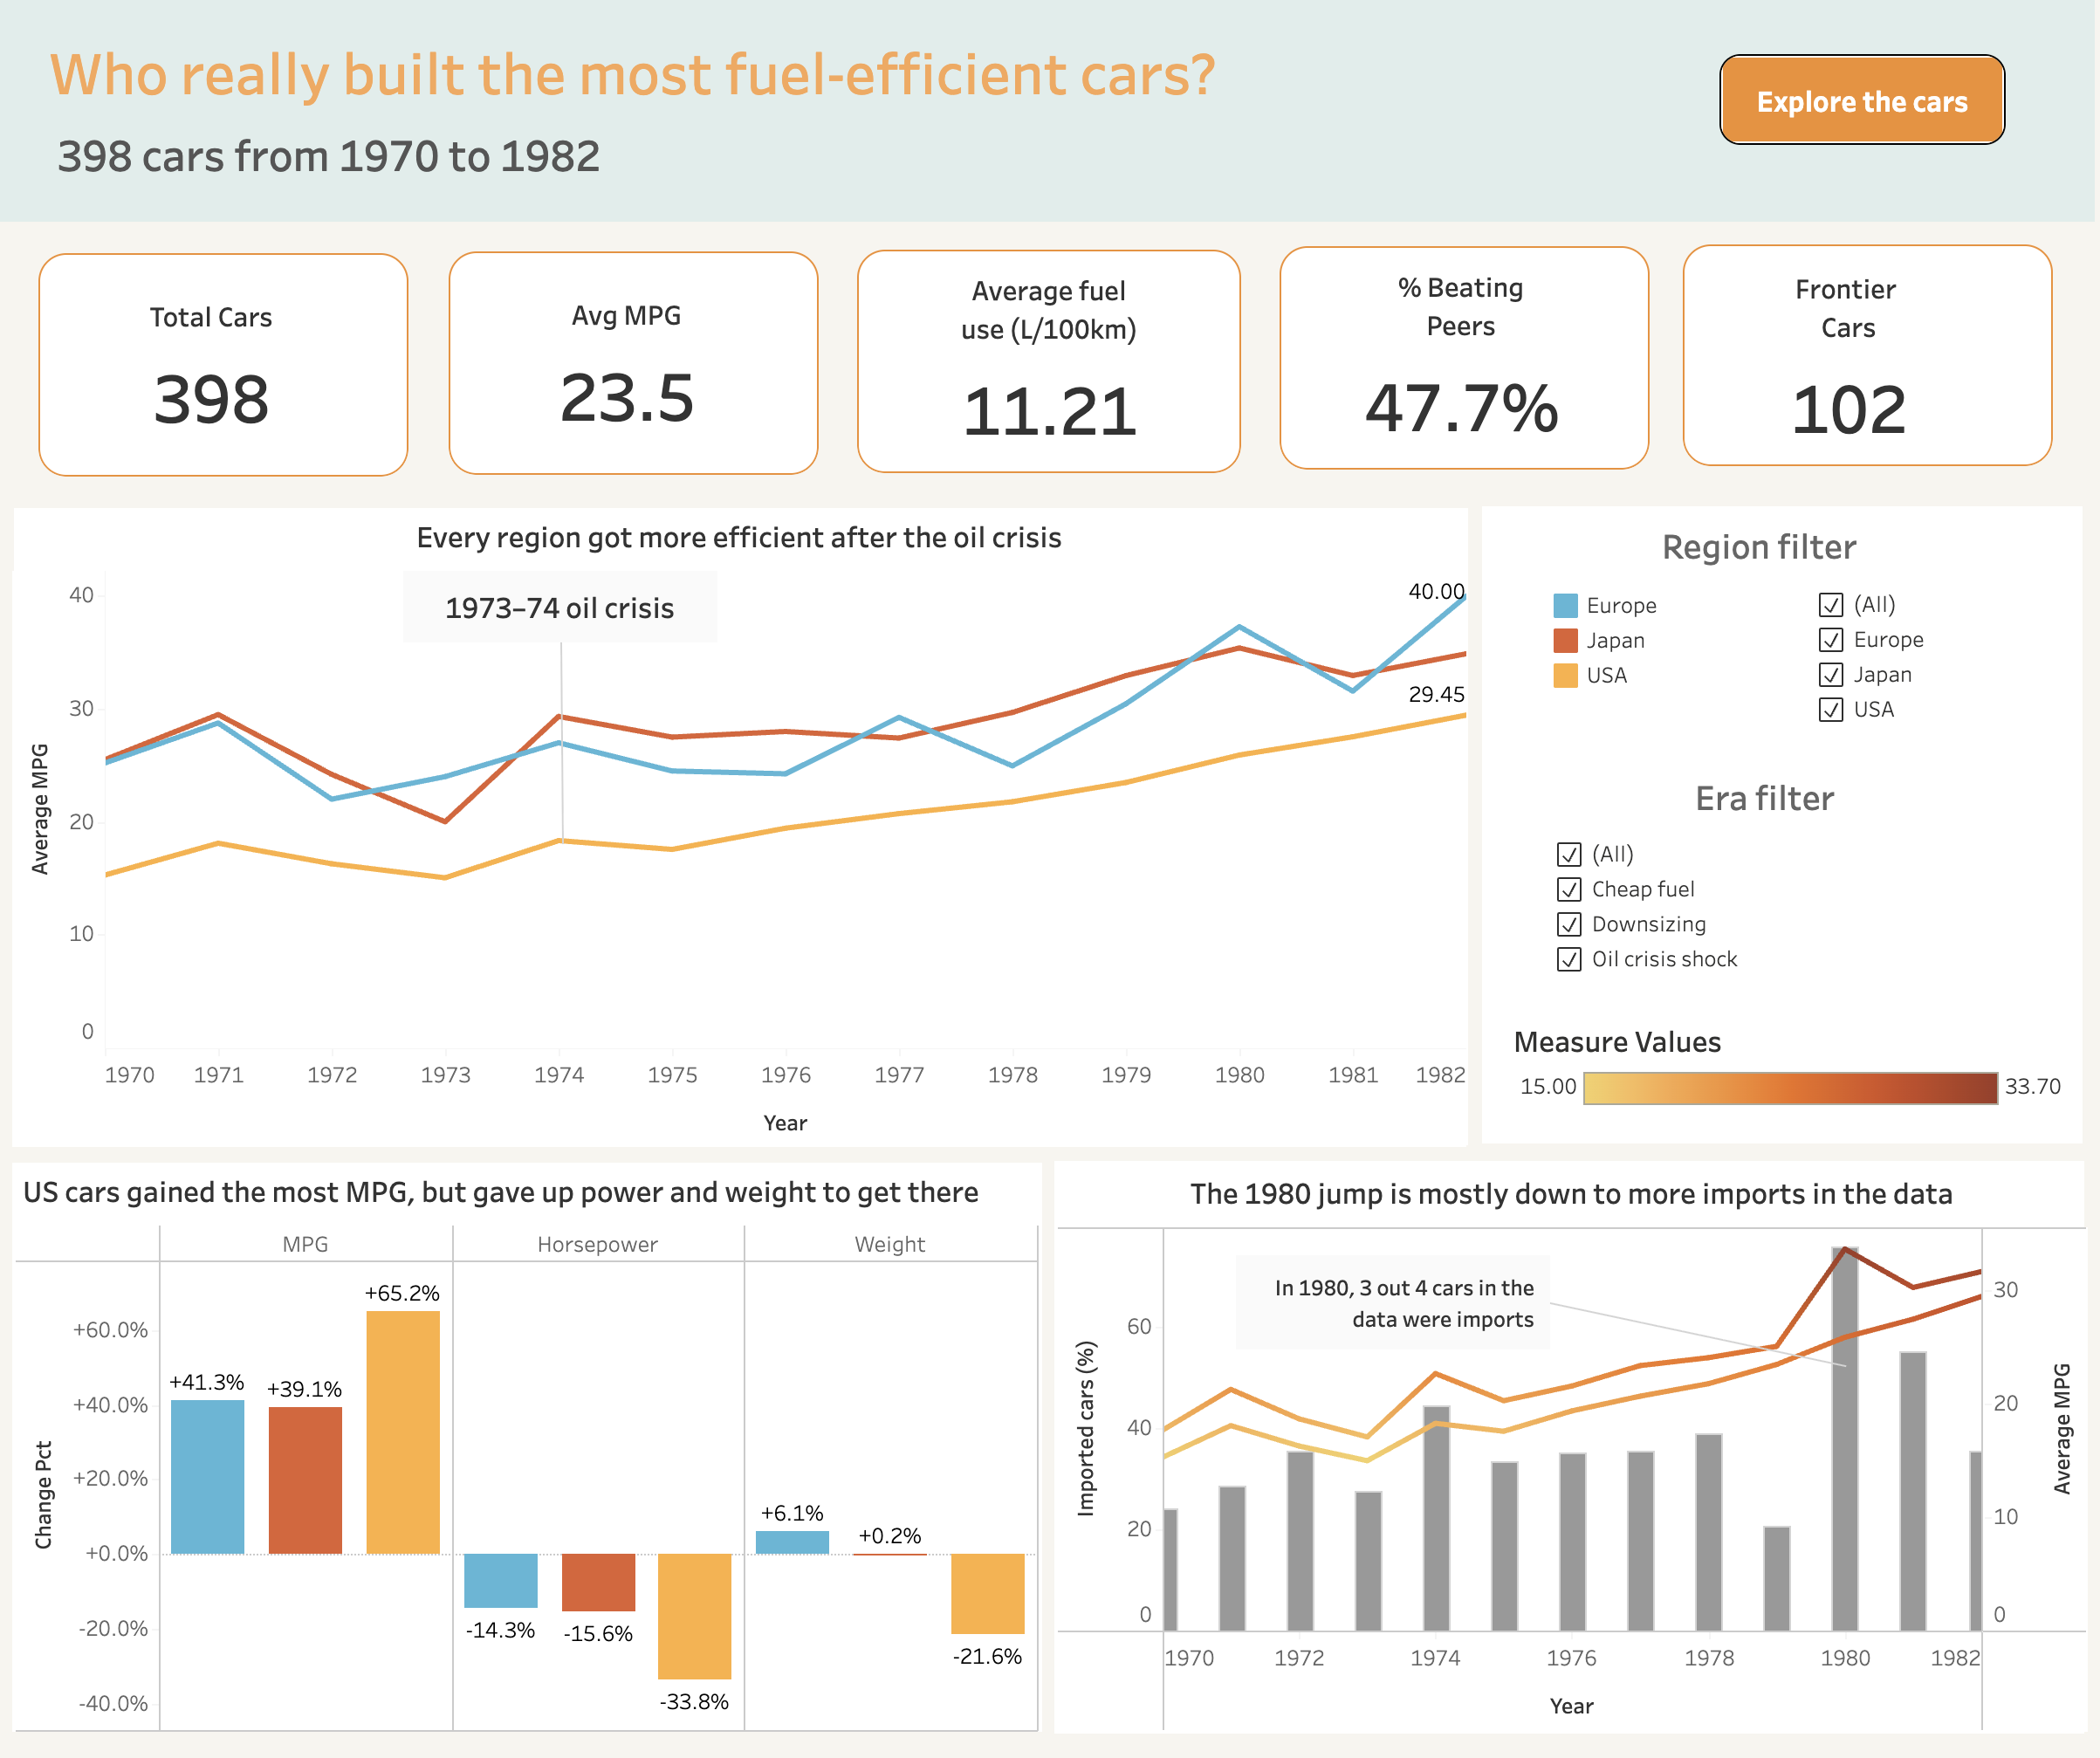

The page's visual inventory and layout, read from the dashboard file:
{"tool":"tableau","page":{"name":"Overview","canvas":[1200,1000],"ordinal":1},"visuals":[{"type":"dashboard-object","box":[985,34,164,52]},{"type":"blank","box":[964,143,212,127]},{"type":"blank","box":[733,144,212,128]},{"type":"blank","box":[491,146,220,128]},{"type":"blank","box":[257,147,212,128]},{"type":"blank","box":[22,148,212,128]},{"type":"worksheet","title":"% Beating Peers","mark":"Automatic","box":[777,150,400,276]},{"type":"worksheet","title":"Avg fuel use","mark":"Automatic","box":[541,152,400,276]},{"type":"worksheet","title":"Avg MPG","mark":"Automatic","box":[309,166,400,276]},{"type":"worksheet","title":"Total Cars","mark":"Automatic","box":[81,167,400,276]},{"type":"blank","box":[849,293,344,365]},{"type":"blank","box":[8,294,833,365]},{"type":"worksheet","title":"MPG Trend","mark":"Line","rows":["mpg"],"cols":["year"],"box":[10,294,831,364]},{"type":"text","box":[952,319,118,30]},{"type":"filter","title":"MPG Trend","param":"[federated.1mzey2f1rk8xc51ejm4r8129pq7d].[none:origin:nk]","box":[1043,366,160,105]},{"type":"legend","title":"MPG Trend","param":"[federated.1mzey2f1rk8xc51ejm4r8129pq7d].[none:origin:nk]","box":[898,369,140,79]},{"type":"text","box":[977,495,100,30]},{"type":"filter","title":"MPG Trend","param":"[federated.1mzey2f1rk8xc51ejm4r8129pq7d].[none:era:nk]","box":[940,538,160,105]},{"type":"worksheet","title":"Region Trade-off","mark":"Bar","rows":["change_pct"],"cols":["metric","origin"],"box":[9,667,586,328]},{"type":"blank","box":[604,668,590,328]},{"type":"worksheet","title":"1980 Illusion","mark":"Automatic","rows":["pct_cars_non_usa"],"cols":["year"],"box":[606,668,590,327]},{"type":"blank","box":[7,669,590,326]}]}

Visuals, with their boxes in screenshot pixels (x1, y1, x2, y2), scaled from the page's 1200x1000 canvas onto the 2100x1758 screenshot:
dashboard-object: bbox(1724, 59, 2011, 151)
blank: bbox(1687, 251, 2058, 475)
blank: bbox(1283, 253, 1654, 478)
blank: bbox(859, 257, 1245, 482)
blank: bbox(450, 258, 820, 484)
blank: bbox(38, 260, 409, 485)
"% Beating Peers" worksheet: bbox(1360, 264, 2060, 749)
"Avg fuel use" worksheet: bbox(947, 267, 1647, 752)
"Avg MPG" worksheet: bbox(541, 292, 1241, 777)
"Total Cars" worksheet: bbox(141, 293, 841, 779)
blank: bbox(1486, 515, 2088, 1157)
blank: bbox(14, 517, 1472, 1158)
"MPG Trend" worksheet (Line marks): bbox(17, 517, 1472, 1157)
text: bbox(1666, 560, 1872, 614)
"MPG Trend" filter: bbox(1825, 643, 2099, 828)
"MPG Trend" legend: bbox(1571, 649, 1816, 787)
text: bbox(1710, 870, 1884, 923)
"MPG Trend" filter: bbox(1645, 946, 1925, 1130)
"Region Trade-off" worksheet (Bar marks): bbox(16, 1172, 1041, 1749)
blank: bbox(1057, 1174, 2090, 1751)
"1980 Illusion" worksheet: bbox(1060, 1174, 2093, 1749)
blank: bbox(12, 1176, 1045, 1749)
